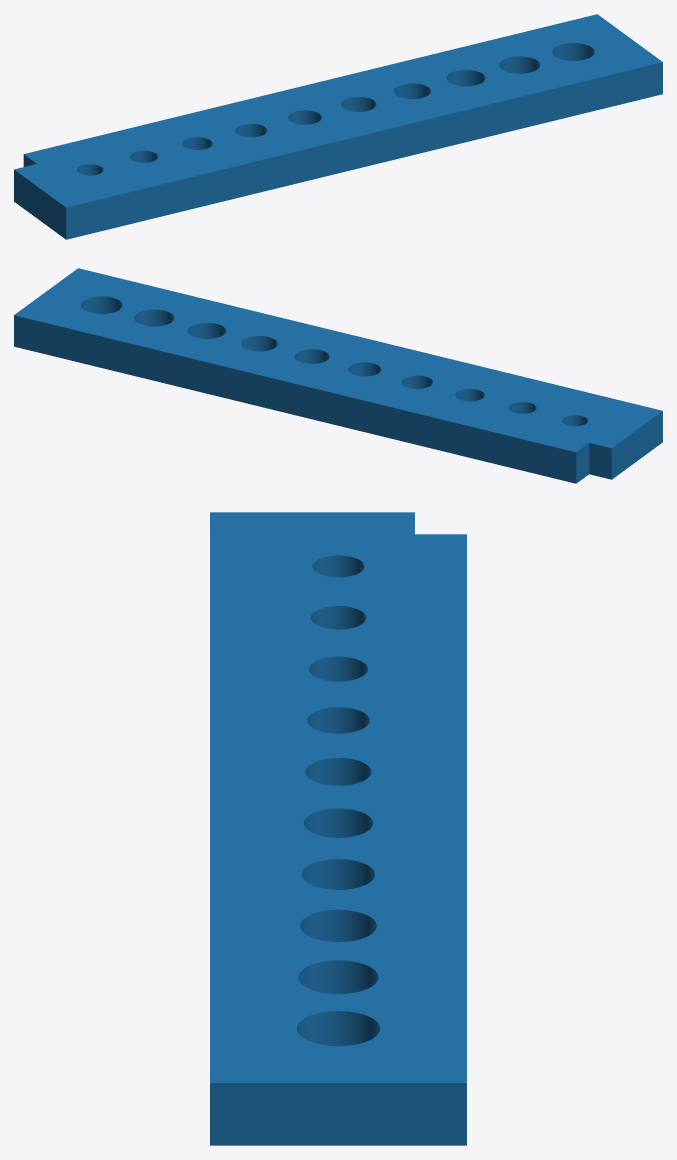
The model's file is hole-gauge.glb.
3 views of the same model, one above another, from view 1: azimuth 30°, elevation 25°; view 2: azimuth 150°, elevation 25°; view 3: azimuth 270°, elevation 25° (orthographic). The views are drawn at different scales.
Visible parts, largest first — view 1: hole-gauge; view 2: hole-gauge; view 3: hole-gauge.
Boxes of the visible parts, x1,y1,x2,y2 form: hole-gauge: [14, 14, 662, 239]; hole-gauge: [14, 268, 662, 483]; hole-gauge: [210, 512, 466, 1145].
Size of the model in its own units: 0.0778 by 0.004 by 0.0148.
